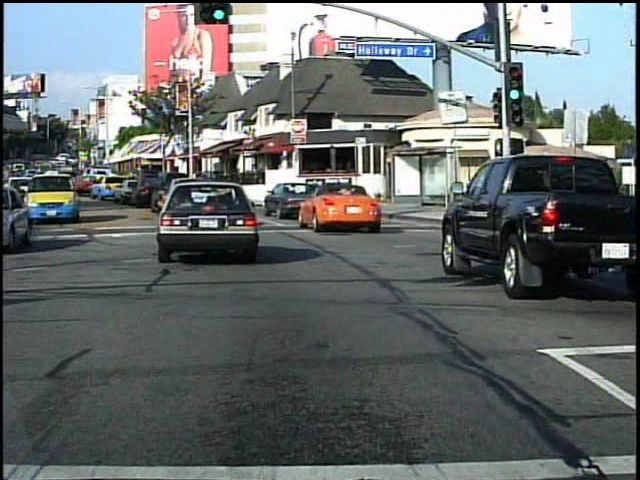person: (583, 188, 605, 252)
